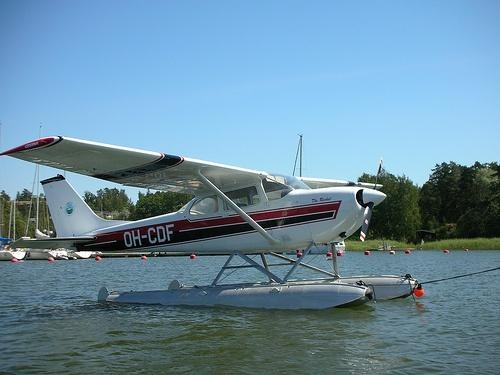aeroplane: (4, 127, 440, 333)
boat: (3, 200, 25, 260)
